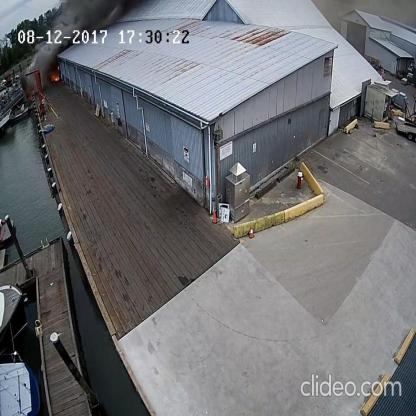fire: (50, 72, 61, 83)
